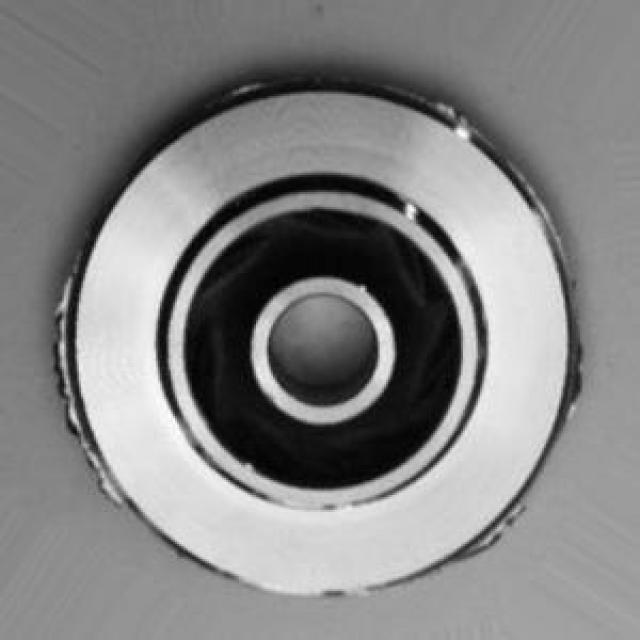Defect: (45, 305, 81, 384)
